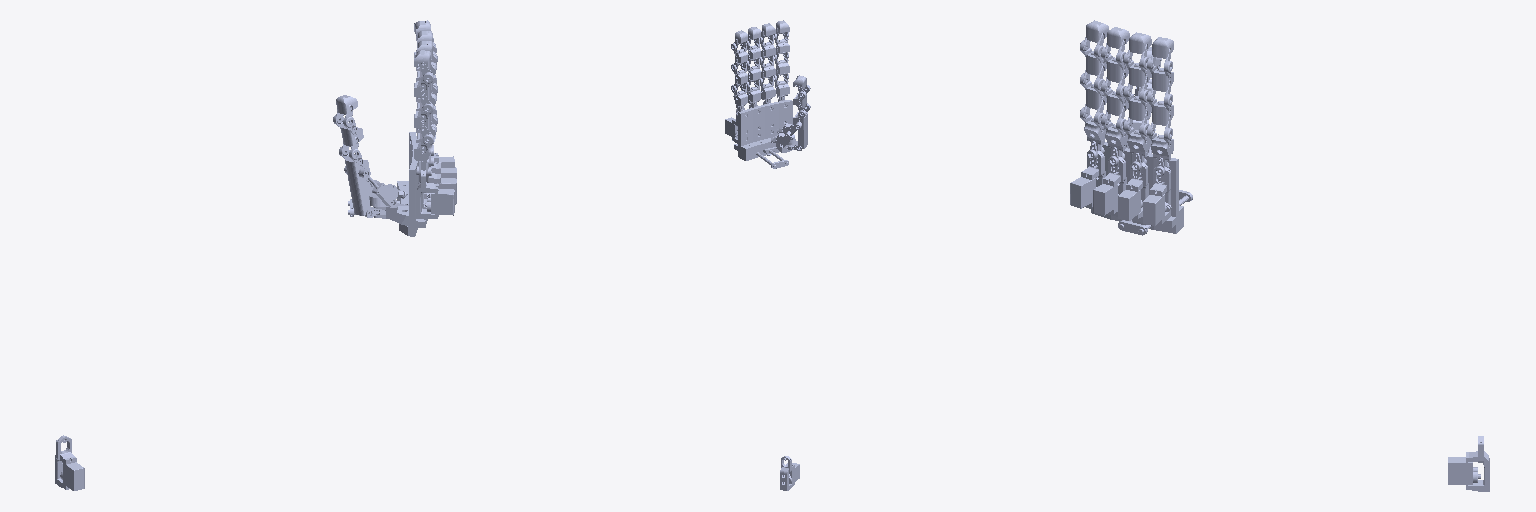
--- What the picture shows (computed from the rendered views, not written in the file) ---
The picture shows the robot from 3 angles, left to right: view 1: azimuth 30°, elevation 25°; view 2: azimuth 150°, elevation 25°; view 3: azimuth 270°, elevation 25°; orthographic projection.
Model roborscht_v0 with 22 links and 21 joints (21 revolute), rooted at base_link, posed all joints at 0.
Links seen in each view (by area): view 1: wrist_link, thumb_metacarpal_link, base_link, thumb_aa_link, thumb_proximal_link, index_metacarpal_link; view 2: wrist_link; view 3: wrist_link, base_link, ring_metacarpal_link, little_metacarpal_link, middle_metacarpal_link, index_metacarpal_link, little_proximal_link, ring_proximal_link, little_middle_link, middlle_middle_link, ring_middle_link, index_proximal_link (+2 smaller).
Boxes of the visible links, <box> form: wrist_link: <box>348,132,456,236</box>; thumb_metacarpal_link: <box>339,147,378,215</box>; base_link: <box>55,435,84,490</box>; thumb_aa_link: <box>359,179,405,217</box>; thumb_proximal_link: <box>333,115,363,155</box>; index_metacarpal_link: <box>414,127,435,182</box>; wrist_link: <box>725,100,793,168</box>; wrist_link: <box>1070,142,1192,235</box>; base_link: <box>1448,436,1489,491</box>; ring_metacarpal_link: <box>1123,120,1151,178</box>; little_metacarpal_link: <box>1147,125,1173,182</box>; middle_metacarpal_link: <box>1101,114,1127,172</box>; index_metacarpal_link: <box>1080,107,1105,166</box>; little_proximal_link: <box>1147,91,1173,135</box>; ring_proximal_link: <box>1123,86,1151,130</box>; little_middle_link: <box>1147,57,1173,101</box>; middlle_middle_link: <box>1101,47,1128,91</box>; ring_middle_link: <box>1123,52,1151,96</box>; index_proximal_link: <box>1080,73,1106,118</box>.
Bounding box of the posed robot: 0.2813 × 0.3799 × 0.5636 m (x, y, z).
Meshes: 22 distinct files referenced, 22 mesh visuals loaded (22 binary STL).

robot.urdf — roborscht_v0:
<?xml version="1.0" encoding="utf-8"?>
<!-- This URDF was automatically created by SolidWorks to URDF Exporter! Originally created by Stephen Brawner ([email redacted]) 
     Commit Version: 1.6.0-4-g7f85cfe  Build Version: 1.6.7995.38578
     For more information, please see http://wiki.ros.org/sw_urdf_exporter -->
<robot
  name="roborscht_v0">
  <link
    name="base_link">
    <inertial>
      <origin
        xyz="0.20862 0.16567 0.31407"
        rpy="0 0 0" />
      <mass
        value="1.6006" />
      <inertia
        ixx="0.0027065"
        ixy="1.8502E-05"
        ixz="-1.4207E-06"
        iyy="0.0025317"
        iyz="4.5228E-06"
        izz="0.0027153" />
    </inertial>
    <visual>
      <origin
        xyz="0 0 0"
        rpy="0 0 0" />
      <geometry>
        <mesh
          filename="package://roborscht_description/meshes/roborscht_v0/base_link.STL" />
      </geometry>
      <material
        name="">
        <color
          rgba="0.79216 0.81961 0.93333 1" />
      </material>
    </visual>
    <collision>
      <origin
        xyz="0 0 0"
        rpy="0 0 0" />
      <geometry>
        <mesh
          filename="package://roborscht_description/meshes/roborscht_v0/base_link.STL" />
      </geometry>
    </collision>
  </link>
  <link
    name="wrist_link">
    <inertial>
      <origin
        xyz="0.0198361169487014 -0.0106510676134412 -0.0857513633280594"
        rpy="0 0 0" />
      <mass
        value="0.119661391700453" />
      <inertia
        ixx="4.72087381018418E-05"
        ixy="-8.39498776983816E-06"
        ixz="3.60067393696575E-06"
        iyy="3.9654708917487E-05"
        iyz="7.3511692240545E-07"
        izz="6.81577888769058E-05" />
    </inertial>
    <visual>
      <origin
        xyz="0 0 0"
        rpy="0 0 0" />
      <geometry>
        <mesh
          filename="package://roborscht_description/meshes/roborscht_v0/wrist_link.STL" />
      </geometry>
      <material
        name="">
        <color
          rgba="0.79216 0.81961 0.93333 1" />
      </material>
    </visual>
    <collision>
      <origin
        xyz="0 0 0"
        rpy="0 0 0" />
      <geometry>
        <mesh
          filename="package://roborscht_description/meshes/roborscht_v0/wrist_link.STL" />
      </geometry>
    </collision>
  </link>
  <joint
    name="wrist_joint"
    type="revolute">
    <origin
      xyz="0.14765 -0.28175 0.35884"
      rpy="-1.5708 -1.0923 1.0472" />
    <parent
      link="base_link" />
    <child
      link="wrist_link" />
    <axis
      xyz="0 0 1" />
    <limit
      lower="-0.523"
      upper="0.523"
      effort="0"
      velocity="0" />
  </joint>
  <link
    name="thumb_aa_link">
    <inertial>
      <origin
        xyz="-0.000283976235758057 2.55078358435412E-09 0.0158755982409356"
        rpy="0 0 0" />
      <mass
        value="0.00898644422505852" />
      <inertia
        ixx="2.85237413187893E-07"
        ixy="-1.69441238087956E-13"
        ixz="-7.14029901852464E-08"
        iyy="5.19122854388611E-07"
        iyz="2.12352310650321E-15"
        izz="4.35650270779694E-07" />
    </inertial>
    <visual>
      <origin
        xyz="0 0 0"
        rpy="0 0 0" />
      <geometry>
        <mesh
          filename="package://roborscht_description/meshes/roborscht_v0/thumb_aa_link.STL" />
      </geometry>
      <material
        name="">
        <color
          rgba="0.79216 0.81961 0.93333 1" />
      </material>
    </visual>
    <collision>
      <origin
        xyz="0 0 0"
        rpy="0 0 0" />
      <geometry>
        <mesh
          filename="package://roborscht_description/meshes/roborscht_v0/thumb_aa_link.STL" />
      </geometry>
    </collision>
  </link>
  <joint
    name="thumb_aa_joint"
    type="revolute">
    <origin
      xyz="-0.002326 -0.025959 -0.04453"
      rpy="-1.6259 -0.91115 -1.746" />
    <parent
      link="wrist_link" />
    <child
      link="thumb_aa_link" />
    <axis
      xyz="0 0 1" />
    <limit
      lower="-0.785"
      upper="0.785"
      effort="0"
      velocity="0" />
  </joint>
  <link
    name="thumb_metacarpal_link">
    <inertial>
      <origin
        xyz="0.000404860827661946 -0.00971698439501756 0.00950107528694294"
        rpy="0 0 0" />
      <mass
        value="0.0122467885919209" />
      <inertia
        ixx="2.7351868706928E-06"
        ixy="4.73258115370778E-07"
        ixz="1.06034055068397E-10"
        iyy="3.14807034252564E-07"
        iyz="-3.61194579025497E-10"
        izz="2.92982974548072E-06" />
    </inertial>
    <visual>
      <origin
        xyz="0 0 0"
        rpy="0 0 0" />
      <geometry>
        <mesh
          filename="package://roborscht_description/meshes/roborscht_v0/thumb_metacarpal_link.STL" />
      </geometry>
      <material
        name="">
        <color
          rgba="0.79216 0.81961 0.93333 1" />
      </material>
    </visual>
    <collision>
      <origin
        xyz="0 0 0"
        rpy="0 0 0" />
      <geometry>
        <mesh
          filename="package://roborscht_description/meshes/roborscht_v0/thumb_metacarpal_link.STL" />
      </geometry>
    </collision>
  </link>
  <joint
    name="thumb_metacarpal_joint"
    type="revolute">
    <origin
      xyz="0.027443 -0.0095 0.044084"
      rpy="1.5708 -0.028576 -3.1416" />
    <parent
      link="thumb_aa_link" />
    <child
      link="thumb_metacarpal_link" />
    <axis
      xyz="0 0 -1" />
    <limit
      lower="0"
      upper="0.698"
      effort="0"
      velocity="0" />
  </joint>
  <link
    name="thumb_proximal_link">
    <inertial>
      <origin
        xyz="0.0181492180487779 -0.0045551983884141 0.00799344158257143"
        rpy="0 0 0" />
      <mass
        value="0.00457448115697791" />
      <inertia
        ixx="8.91294946962737E-08"
        ixy="-3.01114726198487E-09"
        ixz="-2.40838146041634E-10"
        iyy="1.28490349070265E-07"
        iyz="-1.11622941606571E-11"
        izz="1.83487399813375E-07" />
    </inertial>
    <visual>
      <origin
        xyz="0 0 0"
        rpy="0 0 0" />
      <geometry>
        <mesh
          filename="package://roborscht_description/meshes/roborscht_v0/thumb_proximal_link.STL" />
      </geometry>
      <material
        name="">
        <color
          rgba="0.79216 0.81961 0.93333 1" />
      </material>
    </visual>
    <collision>
      <origin
        xyz="0 0 0"
        rpy="0 0 0" />
      <geometry>
        <mesh
          filename="package://roborscht_description/meshes/roborscht_v0/thumb_proximal_link.STL" />
      </geometry>
    </collision>
  </link>
  <joint
    name="thumb_proximal_joint"
    type="revolute">
    <origin
      xyz="-0.010038 0.020032 0.0015"
      rpy="0 0 1.7995" />
    <parent
      link="thumb_metacarpal_link" />
    <child
      link="thumb_proximal_link" />
    <axis
      xyz="0 0 -1" />
    <limit
      lower="0"
      upper="0.698"
      effort="0"
      velocity="0" />
    <mimic
      joint="thumb_metacarpal_joint"
      multiplier="1"
      offset="0" />
  </joint>
  <link
    name="thumb_distal_link">
    <inertial>
      <origin
        xyz="0.0141234180647603 -0.00526492292425366 0.00811936252284157"
        rpy="0 0 0" />
      <mass
        value="0.00324557150318145" />
      <inertia
        ixx="6.6241815544507E-08"
        ixy="7.47829519105645E-09"
        ixz="3.87024849478427E-10"
        iyy="7.00047560328176E-08"
        iyz="7.74033123887065E-10"
        izz="1.10270578363082E-07" />
    </inertial>
    <visual>
      <origin
        xyz="0 0 0"
        rpy="0 0 0" />
      <geometry>
        <mesh
          filename="package://roborscht_description/meshes/roborscht_v0/thumb_distal_link.STL" />
      </geometry>
      <material
        name="">
        <color
          rgba="0.79216 0.81961 0.93333 1" />
      </material>
    </visual>
    <collision>
      <origin
        xyz="0 0 0"
        rpy="0 0 0" />
      <geometry>
        <mesh
          filename="package://roborscht_description/meshes/roborscht_v0/thumb_distal_link.STL" />
      </geometry>
    </collision>
  </link>
  <joint
    name="thumb_distal_joint"
    type="revolute">
    <origin
      xyz="0.033972 0 0"
      rpy="0 0 0" />
    <parent
      link="thumb_proximal_link" />
    <child
      link="thumb_distal_link" />
    <axis
      xyz="0 0 -1" />
    <limit
      lower="0"
      upper="0.698"
      effort="0"
      velocity="0" />
    <mimic
      joint="thumb_proximal_joint"
      multiplier="1"
      offset="0" />
  </joint>
  <link
    name="index_metacarpal_link">
    <inertial>
      <origin
        xyz="2.55528006734562E-06 -0.020096141384508 -0.00266508838027341"
        rpy="0 0 0" />
      <mass
        value="0.00537510190726737" />
      <inertia
        ixx="2.53059740283562E-07"
        ixy="1.87669861493045E-10"
        ixz="2.35473640197266E-11"
        iyy="1.08190461856831E-07"
        iyz="-2.20514713115921E-08"
        izz="2.05816406436138E-07" />
    </inertial>
    <visual>
      <origin
        xyz="0 0 0"
        rpy="0 0 0" />
      <geometry>
        <mesh
          filename="package://roborscht_description/meshes/roborscht_v0/index_metacarpal_link.STL" />
      </geometry>
      <material
        name="">
        <color
          rgba="0.79216 0.81961 0.93333 1" />
      </material>
    </visual>
    <collision>
      <origin
        xyz="0 0 0"
        rpy="0 0 0" />
      <geometry>
        <mesh
          filename="package://roborscht_description/meshes/roborscht_v0/index_metacarpal_link.STL" />
      </geometry>
    </collision>
  </link>
  <joint
    name="index_metacarpal_joint"
    type="revolute">
    <origin
      xyz="0.037941 -0.058343 -0.087721"
      rpy="0 0.1309 1.0923" />
    <parent
      link="wrist_link" />
    <child
      link="index_metacarpal_link" />
    <axis
      xyz="0 0 1" />
    <limit
      lower="-0.262"
      upper="0.262"
      effort="0"
      velocity="0" />
  </joint>
  <link
    name="index_proximal_link">
    <inertial>
      <origin
        xyz="0.018149219363201 -0.00455519894551237 -0.00600655879230505"
        rpy="0 0 0" />
      <mass
        value="0.00457448161152819" />
      <inertia
        ixx="8.91294617769702E-08"
        ixy="-3.0111088833287E-09"
        ixz="-2.40841956953394E-10"
        iyy="1.28490373622757E-07"
        iyz="-1.11577307707266E-11"
        izz="1.83487393021689E-07" />
    </inertial>
    <visual>
      <origin
        xyz="0 0 0"
        rpy="0 0 0" />
      <geometry>
        <mesh
          filename="package://roborscht_description/meshes/roborscht_v0/index_proximal_link.STL" />
      </geometry>
      <material
        name="">
        <color
          rgba="0.79216 0.81961 0.93333 1" />
      </material>
    </visual>
    <collision>
      <origin
        xyz="0 0 0"
        rpy="0 0 0" />
      <geometry>
        <mesh
          filename="package://roborscht_description/meshes/roborscht_v0/index_proximal_link.STL" />
      </geometry>
    </collision>
  </link>
  <joint
    name="index_proximal_joint"
    type="revolute">
    <origin
      xyz="0.006 -0.038786 -0.007734"
      rpy="-1.5708 0 -1.5708" />
    <parent
      link="index_metacarpal_link" />
    <child
      link="index_proximal_link" />
    <axis
      xyz="0 0 -1" />
    <limit
      lower="0"
      upper="0.698"
      effort="0"
      velocity="0" />
  </joint>
  <link
    name="index_middle_link">
    <inertial>
      <origin
        xyz="0.0177672192872244 -0.00447480519248528 0.00799316001554898"
        rpy="0 0 0" />
      <mass
        value="0.00438641334589752" />
      <inertia
        ixx="8.46514881086029E-08"
        ixy="-3.01216827334802E-09"
        ixz="-2.30779224024167E-10"
        iyy="1.17446272298937E-07"
        iyz="-1.1104618693302E-11"
        izz="1.69859418492486E-07" />
    </inertial>
    <visual>
      <origin
        xyz="0 0 0"
        rpy="0 0 0" />
      <geometry>
        <mesh
          filename="package://roborscht_description/meshes/roborscht_v0/index_middle_link.STL" />
      </geometry>
      <material
        name="">
        <color
          rgba="0.79216 0.81961 0.93333 1" />
      </material>
    </visual>
    <collision>
      <origin
        xyz="0 0 0"
        rpy="0 0 0" />
      <geometry>
        <mesh
          filename="package://roborscht_description/meshes/roborscht_v0/index_middle_link.STL" />
      </geometry>
    </collision>
  </link>
  <joint
    name="index_middle_joint"
    type="revolute">
    <origin
      xyz="0.033972 0 -0.014"
      rpy="0 0 0" />
    <parent
      link="index_proximal_link" />
    <child
      link="index_middle_link" />
    <axis
      xyz="0 0 -1" />
    <limit
      lower="0"
      upper="0.698"
      effort="0"
      velocity="0" />
    <mimic
      joint="index_proximal_joint"
      multiplier="1"
      offset="0" />
  </joint>
  <link
    name="index_distal_link">
    <inertial>
      <origin
        xyz="0.0036625008092146 -3.08802378646833E-05 0.00388065535534765"
        rpy="0 0 0" />
      <mass
        value="0.00324558389041588" />
      <inertia
        ixx="6.62418990427688E-08"
        ixy="-7.47834387903468E-09"
        ixz="3.87221072796323E-10"
        iyy="7.00048998621892E-08"
        iyz="-7.73937651799593E-10"
        izz="1.10271038022725E-07" />
    </inertial>
    <visual>
      <origin
        xyz="0 0 0"
        rpy="0 0 0" />
      <geometry>
        <mesh
          filename="package://roborscht_description/meshes/roborscht_v0/index_distal_link.STL" />
      </geometry>
      <material
        name="">
        <color
          rgba="0.79216 0.81961 0.93333 1" />
      </material>
    </visual>
    <collision>
      <origin
        xyz="0 0 0"
        rpy="0 0 0" />
      <geometry>
        <mesh
          filename="package://roborscht_description/meshes/roborscht_v0/index_distal_link.STL" />
      </geometry>
    </collision>
  </link>
  <joint
    name="index_distal_joint"
    type="revolute">
    <origin
      xyz="0.050958 -0.005234 0.012"
      rpy="-3.1416 0 3.1416" />
    <parent
      link="index_middle_link" />
    <child
      link="index_distal_link" />
    <axis
      xyz="0 0 -1" />
    <limit
      lower="0"
      upper="0.698"
      effort="0"
      velocity="0" />
    <mimic
      joint="index_middle_joint"
      multiplier="1"
      offset="0" />
  </joint>
  <link
    name="middle_metacarpal_link">
    <inertial>
      <origin
        xyz="-2.55565468071373E-06 -0.0200961415932935 -0.00233491162753896"
        rpy="0 0 0" />
      <mass
        value="0.00537510153137122" />
      <inertia
        ixx="2.53059723503825E-07"
        ixy="-1.87659896911949E-10"
        ixz="2.35501656735461E-11"
        iyy="1.08190454856687E-07"
        iyz="2.20514736537073E-08"
        izz="2.05816382294143E-07" />
    </inertial>
    <visual>
      <origin
        xyz="0 0 0"
        rpy="0 0 0" />
      <geometry>
        <mesh
          filename="package://roborscht_description/meshes/roborscht_v0/middle_metacarpal_link.STL" />
      </geometry>
      <material
        name="">
        <color
          rgba="0.79216 0.81961 0.93333 1" />
      </material>
    </visual>
    <collision>
      <origin
        xyz="0 0 0"
        rpy="0 0 0" />
      <geometry>
        <mesh
          filename="package://roborscht_description/meshes/roborscht_v0/middle_metacarpal_link.STL" />
      </geometry>
    </collision>
  </link>
  <joint
    name="middle_metacarpal_joint"
    type="revolute">
    <origin
      xyz="0.048362 -0.038252 -0.094738"
      rpy="-3.1416 -0.043633 -2.0493" />
    <parent
      link="wrist_link" />
    <child
      link="middle_metacarpal_link" />
    <axis
      xyz="0 0 1" />
    <limit
      lower="-0.262"
      upper="0.262"
      effort="0"
      velocity="0" />
  </joint>
  <link
    name="middle_proximal_link">
    <inertial>
      <origin
        xyz="0.0177672190634042 -0.00447480520417803 -0.00600683986562039"
        rpy="0 0 0" />
      <mass
        value="0.00438641328635534" />
      <inertia
        ixx="8.46514887225524E-08"
        ixy="-3.01216822075253E-09"
        ixz="-2.30779334206816E-10"
        iyy="1.17446270009607E-07"
        iyz="-1.11046986698815E-11"
        izz="1.69859417117798E-07" />
    </inertial>
    <visual>
      <origin
        xyz="0 0 0"
        rpy="0 0 0" />
      <geometry>
        <mesh
          filename="package://roborscht_description/meshes/roborscht_v0/middle_proximal_link.STL" />
      </geometry>
      <material
        name="">
        <color
          rgba="0.79216 0.81961 0.93333 1" />
      </material>
    </visual>
    <collision>
      <origin
        xyz="0 0 0"
        rpy="0 0 0" />
      <geometry>
        <mesh
          filename="package://roborscht_description/meshes/roborscht_v0/middle_proximal_link.STL" />
      </geometry>
    </collision>
  </link>
  <joint
    name="middle_proximal_joint"
    type="revolute">
    <origin
      xyz="-0.006 -0.038786 0.002734"
      rpy="1.5708 0 -1.5708" />
    <parent
      link="middle_metacarpal_link" />
    <child
      link="middle_proximal_link" />
    <axis
      xyz="0 0 -1" />
    <limit
      lower="0"
      upper="0.698"
      effort="0"
      velocity="0" />
  </joint>
  <link
    name="middlle_middle_link">
    <inertial>
      <origin
        xyz="0.0103632790967668 0.000678841116282469 0.00799344132177349"
        rpy="0 0 0" />
      <mass
        value="0.00457448155140277" />
      <inertia
        ixx="8.91294624261494E-08"
        ixy="-3.01110883022367E-09"
        ixz="-2.4084206075731E-10"
        iyy="1.28490371316336E-07"
        iyz="-1.1157814984476E-11"
        izz="1.83487391699889E-07" />
    </inertial>
    <visual>
      <origin
        xyz="0 0 0"
        rpy="0 0 0" />
      <geometry>
        <mesh
          filename="package://roborscht_description/meshes/roborscht_v0/middlle_middle_link.STL" />
      </geometry>
      <material
        name="">
        <color
          rgba="0.79216 0.81961 0.93333 1" />
      </material>
    </visual>
    <collision>
      <origin
        xyz="0 0 0"
        rpy="0 0 0" />
      <geometry>
        <mesh
          filename="package://roborscht_description/meshes/roborscht_v0/middlle_middle_link.STL" />
      </geometry>
    </collision>
  </link>
  <joint
    name="middle_middle_joint"
    type="revolute">
    <origin
      xyz="0.040958 -0.005234 -0.014"
      rpy="0 0 0" />
    <parent
      link="middle_proximal_link" />
    <child
      link="middlle_middle_link" />
    <axis
      xyz="0 0 -1" />
    <limit
      lower="0"
      upper="0.698"
      effort="0"
      velocity="0" />
    <mimic
      joint="middle_proximal_joint"
      multiplier="1"
      offset="0" />
  </joint>
  <link
    name="middle_distal_link">
    <inertial>
      <origin
        xyz="0.0141234393575355 -0.00526492006858437 0.00811934494644034"
        rpy="0 0 0" />
      <mass
        value="0.00324558400286927" />
      <inertia
        ixx="6.62419004802762E-08"
        ixy="7.4783390595289E-09"
        ixz="3.87218961512297E-10"
        iyy="7.00048984454237E-08"
        iyz="7.7393683080197E-10"
        izz="1.10271038154835E-07" />
    </inertial>
    <visual>
      <origin
        xyz="0 0 0"
        rpy="0 0 0" />
      <geometry>
        <mesh
          filename="package://roborscht_description/meshes/roborscht_v0/middle_distal_link.STL" />
      </geometry>
      <material
        name="">
        <color
          rgba="0.79216 0.81961 0.93333 1" />
      </material>
    </visual>
    <collision>
      <origin
        xyz="0 0 0"
        rpy="0 0 0" />
      <geometry>
        <mesh
          filename="package://roborscht_description/meshes/roborscht_v0/middle_distal_link.STL" />
      </geometry>
    </collision>
  </link>
  <joint
    name="middle_distal_joint"
    type="revolute">
    <origin
      xyz="0.026186 0.005234 0"
      rpy="0 0 0" />
    <parent
      link="middlle_middle_link" />
    <child
      link="middle_distal_link" />
    <axis
      xyz="0 0 -1" />
    <limit
      lower="0"
      upper="0.698"
      effort="0"
      velocity="0" />
    <mimic
      joint="middle_middle_joint"
      multiplier="1"
      offset="0" />
  </joint>
  <link
    name="ring_metacarpal_link">
    <inertial>
      <origin
        xyz="2.55563816178861E-06 -0.020096141084471 -0.00266508835076884"
        rpy="0 0 0" />
      <mass
        value="0.0053751014229565" />
      <inertia
        ixx="2.53059719418796E-07"
        ixy="1.8765991317028E-10"
        ixz="2.3550352558356E-11"
        iyy="1.08190455906327E-07"
        iyz="-2.20514724507877E-08"
        izz="2.05816376852638E-07" />
    </inertial>
    <visual>
      <origin
        xyz="0 0 0"
        rpy="0 0 0" />
      <geometry>
        <mesh
          filename="package://roborscht_description/meshes/roborscht_v0/ring_metacarpal_link.STL" />
      </geometry>
      <material
        name="">
        <color
          rgba="0.79216 0.81961 0.93333 1" />
      </material>
    </visual>
    <collision>
      <origin
        xyz="0 0 0"
        rpy="0 0 0" />
      <geometry>
        <mesh
          filename="package://roborscht_description/meshes/roborscht_v0/ring_metacarpal_link.STL" />
      </geometry>
    </collision>
  </link>
  <joint
    name="ring_metacarpal_joint"
    type="revolute">
    <origin
      xyz="0.059027 -0.017692 -0.089812"
      rpy="0 -0.043633 1.0923" />
    <parent
      link="wrist_link" />
    <child
      link="ring_metacarpal_link" />
    <axis
      xyz="0 0 1" />
    <limit
      lower="-0.262"
      upper="0.262"
      effort="0"
      velocity="0" />
  </joint>
  <link
    name="ring_proximal_link">
    <inertial>
      <origin
        xyz="0.00803672137307854 0.000678841052978663 0.00800655867946629"
        rpy="0 0 0" />
      <mass
        value="0.004574481429963" />
      <inertia
        ixx="8.91294632237246E-08"
        ixy="3.01110803476702E-09"
        ixz="-2.40841983305922E-10"
        iyy="1.28490366113308E-07"
        iyz="1.11578794053219E-11"
        izz="1.83487387692615E-07" />
    </inertial>
    <visual>
      <origin
        xyz="0 0 0"
        rpy="0 0 0" />
      <geometry>
        <mesh
          filename="package://roborscht_description/meshes/roborscht_v0/ring_proximal_link.STL" />
      </geometry>
      <material
        name="">
        <color
          rgba="0.79216 0.81961 0.93333 1" />
      </material>
    </visual>
    <collision>
      <origin
        xyz="0 0 0"
        rpy="0 0 0" />
      <geometry>
        <mesh
          filename="package://roborscht_description/meshes/roborscht_v0/ring_proximal_link.STL" />
      </geometry>
    </collision>
  </link>
  <joint
    name="ring_proximal_joint"
    type="revolute">
    <origin
      xyz="0.008 -0.064972 -0.0025"
      rpy="-1.5708 0 1.5708" />
    <parent
      link="ring_metacarpal_link" />
    <child
      link="ring_proximal_link" />
    <axis
      xyz="0 0 -1" />
    <limit
      lower="0"
      upper="0.698"
      effort="0"
      velocity="0" />
  </joint>
  <link
    name="ring_middle_link">
    <inertial>
      <origin
        xyz="0.0177672185842292 -0.0044748052699139 0.00799316013305559"
        rpy="0 0 0" />
      <mass
        value="0.00438641316565879" />
      <inertia
        ixx="8.46514894641059E-08"
        ixy="-3.01216742673416E-09"
        ixz="-2.3077926578658E-10"
        iyy="1.17446264826936E-07"
        iyz="-1.11047625640748E-11"
        izz="1.69859413031406E-07" />
    </inertial>
    <visual>
      <origin
        xyz="0 0 0"
        rpy="0 0 0" />
      <geometry>
        <mesh
          filename="package://roborscht_description/meshes/roborscht_v0/ring_middle_link.STL" />
      </geometry>
      <material
        name="">
        <color
          rgba="0.79216 0.81961 0.93333 1" />
      </material>
    </visual>
    <collision>
      <origin
        xyz="0 0 0"
        rpy="0 0 0" />
      <geometry>
        <mesh
          filename="package://roborscht_description/meshes/roborscht_v0/ring_middle_link.STL" />
      </geometry>
    </collision>
  </link>
  <joint
    name="ring_middle_joint"
    type="revolute">
    <origin
      xyz="-0.0077859 0.005234 0.016"
      rpy="3.1416 0 3.1416" />
    <parent
      link="ring_proximal_link" />
    <child
      link="ring_middle_link" />
    <axis
      xyz="0 0 -1" />
    <limit
      lower="0"
      upper="0.698"
      effort="0"
      velocity="0" />
    <mimic
      joint="ring_proximal_joint"
      multiplier="1"
      offset="0" />
  </joint>
  <link
    name="ring_distal_link">
    <inertial>
      <origin
        xyz="0.0141234395702472 -0.00526492001445844 0.00811934525485059"
        rpy="0 0 0" />
      <mass
        value="0.00324558424388224" />
      <inertia
        ixx="6.62419031245607E-08"
        ixy="7.47833374189339E-09"
        ixz="3.8721605686318E-10"
        iyy="7.00048993538569E-08"
        iyz="7.73935080437177E-10"
        izz="1.10271043755537E-07" />
    </inertial>
    <visual>
      <origin
        xyz="0 0 0"
        rpy="0 0 0" />
      <geometry>
        <mesh
          filename="package://roborscht_description/meshes/roborscht_v0/ring_distal_link.STL" />
      </geometry>
      <material
        name="">
        <color
          rgba="0.79216 0.81961 0.93333 1" />
      </material>
    </visual>
    <collision>
      <origin
        xyz="0 0 0"
        rpy="0 0 0" />
      <geometry>
        <mesh
          filename="package://roborscht_description/meshes/roborscht_v0/ring_distal_link.STL" />
      </geometry>
    </collision>
  </link>
  <joint
    name="ring_distal_joint"
    type="revolute">
    <origin
      xyz="0.033172 0 0"
      rpy="0 0 0" />
    <parent
      link="ring_middle_link" />
    <child
      link="ring_distal_link" />
    <axis
      xyz="0 0 -1" />
    <limit
      lower="0"
      upper="0.698"
      effort="0"
      velocity="0" />
    <mimic
      joint="ring_middle_joint"
      multiplier="1"
      offset="0" />
  </joint>
  <link
    name="little_metacarpal_link">
    <inertial>
      <origin
        xyz="2.55569268403644E-06 -0.0200961407733193 -0.00266508828040085"
        rpy="0 0 0" />
      <mass
        value="0.0053751011465034" />
      <inertia
        ixx="2.53059707033401E-07"
        ixy="1.87655942478339E-10"
        ixz="2.35515466305683E-11"
        iyy="1.08190454738953E-07"
        iyz="-2.20514733007694E-08"
        izz="2.05816361551019E-07" />
    </inertial>
    <visual>
      <origin
        xyz="0 0 0"
        rpy="0 0 0" />
      <geometry>
        <mesh
          filename="package://roborscht_description/meshes/roborscht_v0/little_metacarpal_link.STL" />
      </geometry>
      <material
        name="">
        <color
          rgba="0.79216 0.81961 0.93333 1" />
      </material>
    </visual>
    <collision>
      <origin
        xyz="0 0 0"
        rpy="0 0 0" />
      <geometry>
        <mesh
          filename="package://roborscht_description/meshes/roborscht_v0/little_metacarpal_link.STL" />
      </geometry>
    </collision>
  </link>
  <joint
    name="little_metacarpal_joint"
    type="revolute">
    <origin
      xyz="0.069552 0.0026003 -0.087812"
      rpy="0 -0.1309 1.0923" />
    <parent
      link="wrist_link" />
    <child
      link="little_metacarpal_link" />
    <axis
      xyz="0 0 1" />
    <limit
      lower="-0.262"
      upper="0.262"
      effort="0"
      velocity="0" />
  </joint>
  <link
    name="little_proximal_link">
    <inertial>
      <origin
        xyz="0.00803672190288657 0.000678841048409429 0.00800655869806569"
        rpy="0 0 0" />
      <mass
        value="0.0045744812906024" />
      <inertia
        ixx="8.9129466073873E-08"
        ixy="3.01110704981689E-09"
        ixz="-2.40841550906898E-10"
        iyy="1.28490360246208E-07"
        iyz="1.11581507540471E-11"
        izz="1.83487385303187E-07" />
    </inertial>
    <visual>
      <origin
        xyz="0 0 0"
        rpy="0 0 0" />
      <geometry>
        <mesh
          filename="package://roborscht_description/meshes/roborscht_v0/little_proximal_link.STL" />
      </geometry>
      <material
        name="">
        <color
          rgba="0.79216 0.81961 0.93333 1" />
      </material>
    </visual>
    <collision>
      <origin
        xyz="0 0 0"
        rpy="0 0 0" />
      <geometry>
        <mesh
          filename="package://roborscht_description/meshes/roborscht_v0/little_proximal_link.STL" />
      </geometry>
    </collision>
  </link>
  <joint
    name="little_proximal_joint"
    type="revolute">
    <origin
      xyz="0.008 -0.064972 -0.0025"
      rpy="-1.5708 0 1.5708" />
    <parent
      link="little_metacarpal_link" />
    <child
      link="little_proximal_link" />
    <axis
      xyz="0 0 1" />
    <limit
      lower="0"
      upper="0.698"
      effort="0"
      velocity="0" />
  </joint>
  <link
    name="little_middle_link">
    <inertial>
      <origin
        xyz="0.00761872200312108 0.000759234795496888 0.00800683988637965"
        rpy="0 0 0" />
      <mass
        value="0.00438641302771597" />
      <inertia
        ixx="8.46514921476101E-08"
        ixy="3.01216644824031E-09"
        ixz="-2.30778855431555E-10"
        iyy="1.17446258991272E-07"
        iyz="1.11050330102368E-11"
        izz="1.69859410427898E-07" />
    </inertial>
    <visual>
      <origin
        xyz="0 0 0"
        rpy="0 0 0" />
      <geometry>
        <mesh
          filename="package://roborscht_description/meshes/roborscht_v0/little_middle_link.STL" />
      </geometry>
      <material
        name="">
        <color
          rgba="0.79216 0.81961 0.93333 1" />
      </material>
    </visual>
    <collision>
      <origin
        xyz="0 0 0"
        rpy="0 0 0" />
      <geometry>
        <mesh
          filename="package://roborscht_description/meshes/roborscht_v0/little_middle_link.STL" />
      </geometry>
    </collision>
  </link>
  <joint
    name="little_middle_joint"
    type="revolute">
    <origin
      xyz="-0.033172 0 0"
      rpy="0 0 0" />
    <parent
      link="little_proximal_link" />
    <child
      link="little_middle_link" />
    <axis
      xyz="0 0 1" />
    <limit
      lower="0"
      upper="0.698"
      effort="0"
      velocity="0" />
    <mimic
      joint="little_proximal_joint"
      multiplier="1"
      offset="0" />
  </joint>
  <link
    name="little_distal_link">
    <inertial>
      <origin
        xyz="0.00566249943356301 -3.08794569537918E-05 0.00788065375570535"
        rpy="0 0 0" />
      <mass
        value="0.00324558468478877" />
      <inertia
        ixx="6.62419043154472E-08"
        ixy="-7.47832162280382E-09"
        ixz="3.8720691619547E-10"
        iyy="7.00049042543186E-08"
        iyz="-7.73930539929669E-10"
        izz="1.1027105971372E-07" />
    </inertial>
    <visual>
      <origin
        xyz="0 0 0"
        rpy="0 0 0" />
      <geometry>
        <mesh
          filename="package://roborscht_description/meshes/roborscht_v0/little_distal_link.STL" />
      </geometry>
      <material
        name="">
        <color
          rgba="0.79216 0.81961 0.93333 1" />
      </material>
    </visual>
    <collision>
      <origin
        xyz="0 0 0"
        rpy="0 0 0" />
      <geometry>
        <mesh
          filename="package://roborscht_description/meshes/roborscht_v0/little_distal_link.STL" />
      </geometry>
    </collision>
  </link>
  <joint
    name="little_distal_joint"
    type="revolute">
    <origin
      xyz="-0.027572 0 0"
      rpy="0 0 0" />
    <parent
      link="little_middle_link" />
    <child
      link="little_distal_link" />
    <axis
      xyz="0 0 1" />
    <limit
      lower="0"
      upper="0.698"
      effort="0"
      velocity="0" />
    <mimic
      joint="little_middle_joint"
      multiplier="1"
      offset="0" />
  </joint>
</robot>
